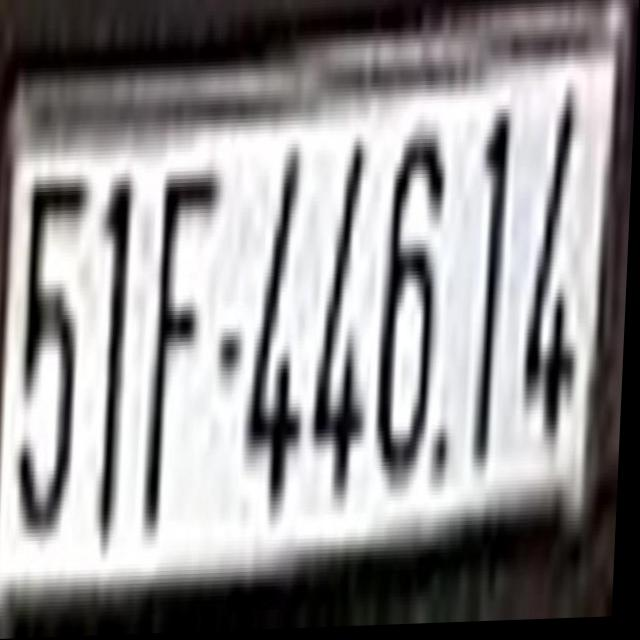1: (461, 97, 520, 483), (92, 174, 136, 559)
4: (521, 87, 598, 465), (247, 150, 313, 547), (309, 132, 379, 506)
5: (19, 168, 91, 542)
6: (378, 115, 450, 496)
F: (145, 144, 219, 519)
